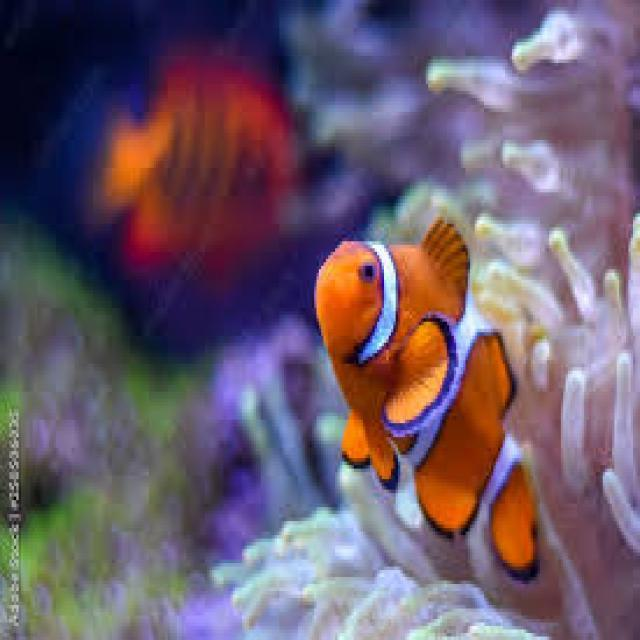ClownFish: (306, 210, 552, 594)
